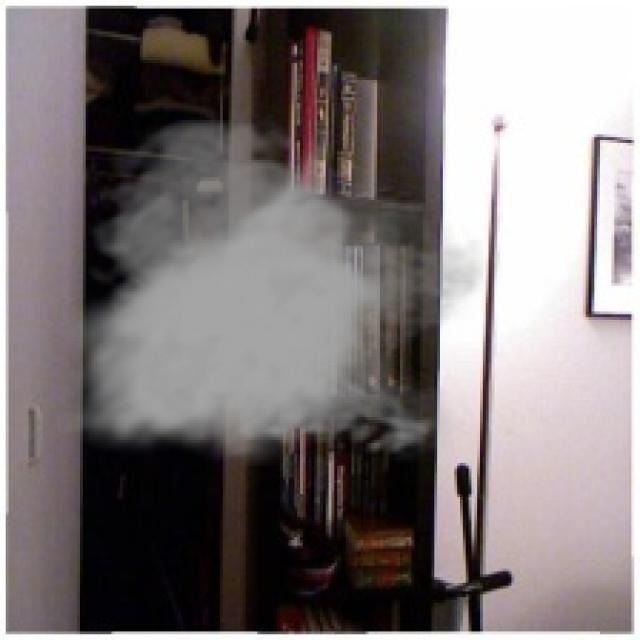Smoke: (57, 114, 483, 466)
